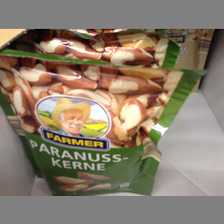nuts: (1, 49, 208, 195)
